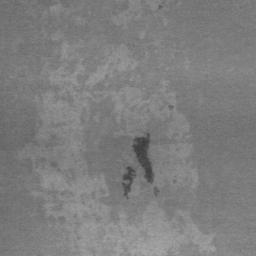Iron scale compression: (133, 136, 153, 184), (121, 168, 135, 199), (153, 187, 160, 197)
